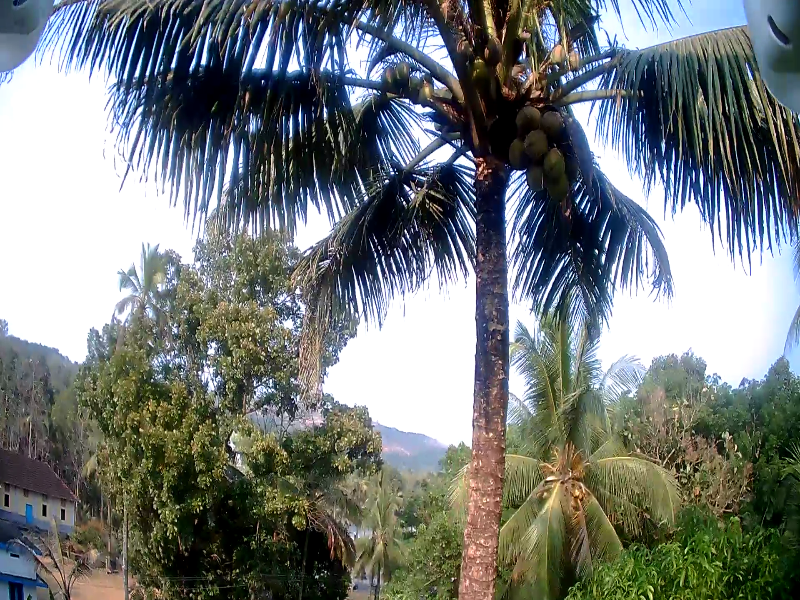coconut: (484, 36, 508, 63), (415, 76, 433, 109), (466, 51, 488, 78), (526, 128, 547, 156), (389, 55, 408, 84), (541, 147, 558, 179), (504, 138, 526, 162), (515, 106, 538, 127), (525, 164, 541, 188), (549, 41, 561, 72), (545, 109, 562, 130), (565, 49, 579, 69), (380, 65, 391, 87), (408, 69, 416, 89)
